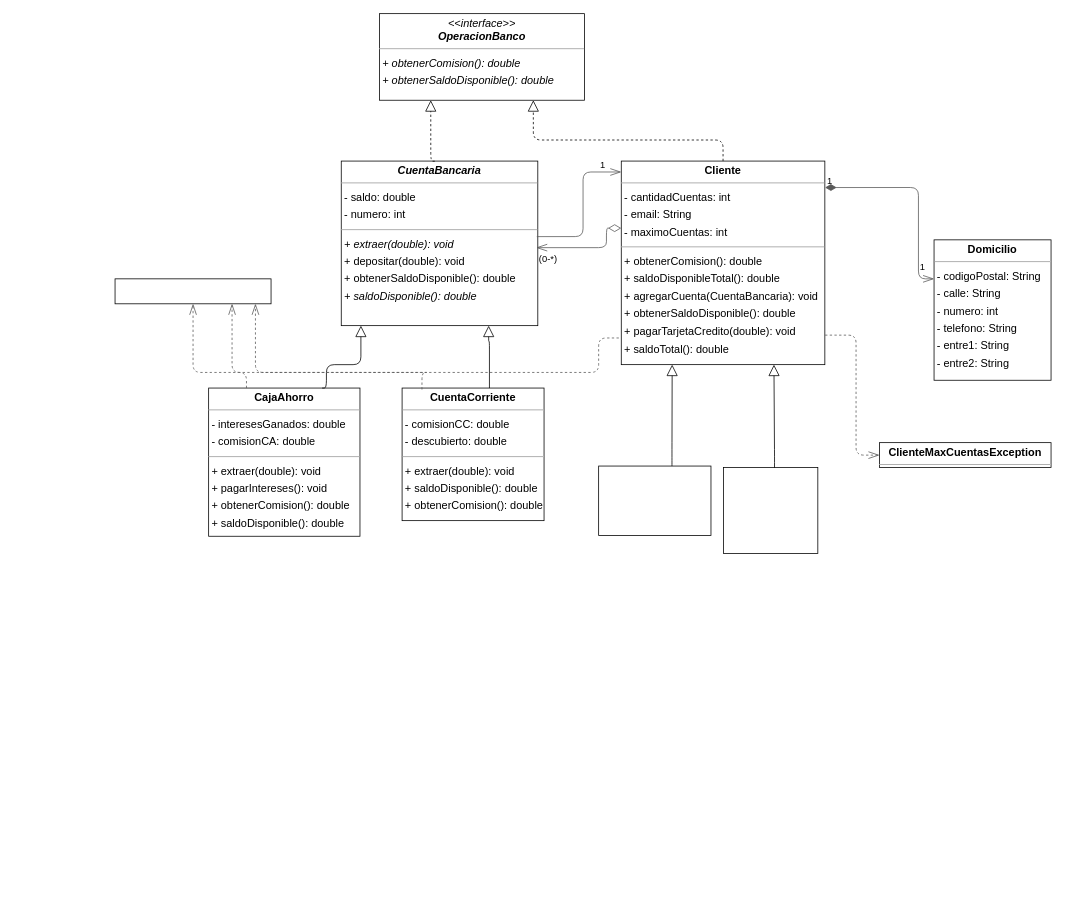
This 1065x906 diagram has some shape labels left out. The shapes that lost their labels are listed below. From the top down, each one's box as (x1, y1, x2, y2) in pixels, then its label:
(114, 278, 271, 304): SaldoInsuficienteException
(598, 465, 711, 535): Empresa - cuit: String - razonSocial: String
(723, 467, 818, 553): Persona - dni: int - nombre: String - apellido: String
